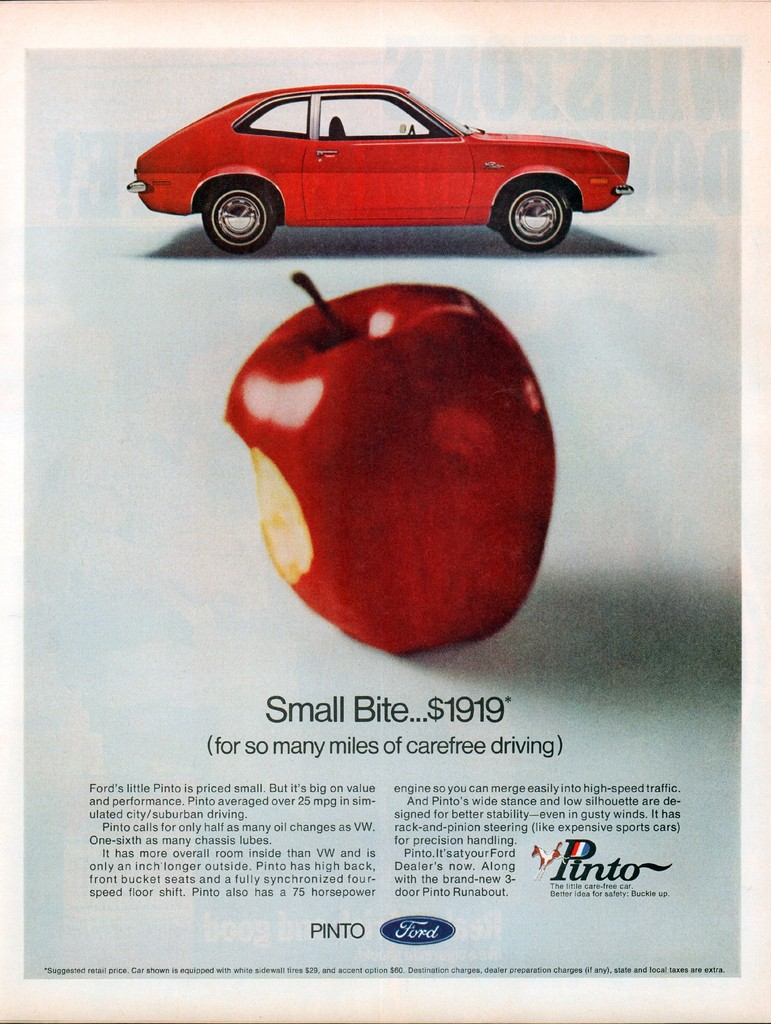Apple: (250, 259, 579, 679)
